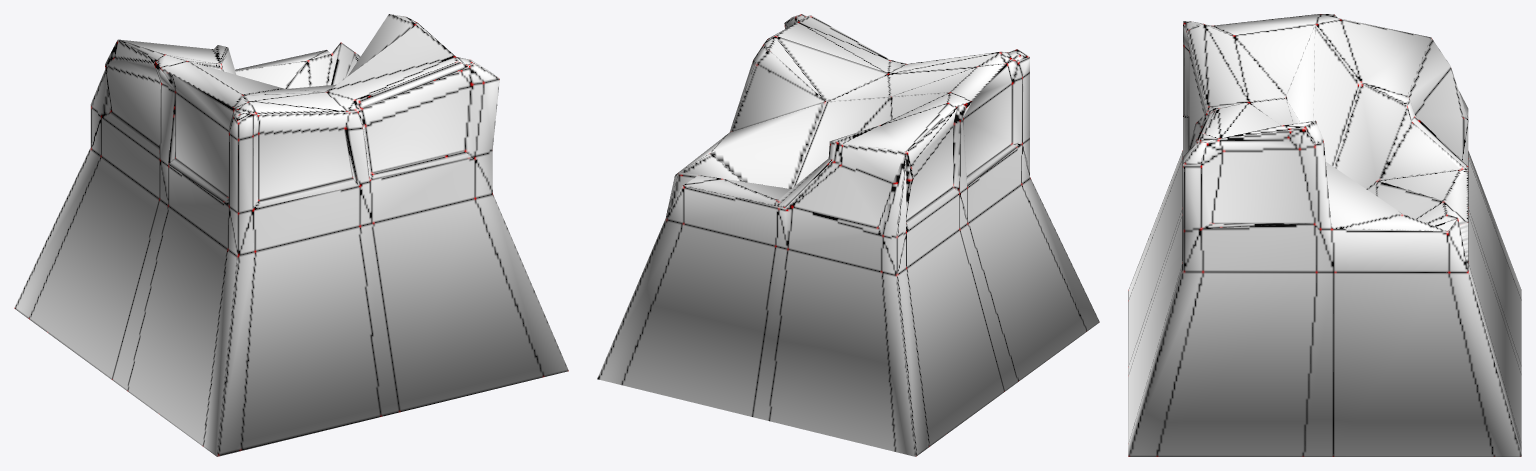
File: building_tower_base.fbx
3 views of the same model, side by side, from view 1: azimuth 30°, elevation 25°; view 2: azimuth 150°, elevation 25°; view 3: azimuth 270°, elevation 25° (orthographic). The views are drawn at different scales.
Parts seen in each view (by area): view 1: Cube; view 2: Cube; view 3: Cube.
Boxes of the visible parts, x1,y1,x2,y2 form: Cube: (14, 14, 568, 456); Cube: (597, 14, 1099, 456); Cube: (1128, 14, 1521, 456).
Size of the model in its own units: 2.76 by 2.32 by 2.76.
1 material, 1 textured.
